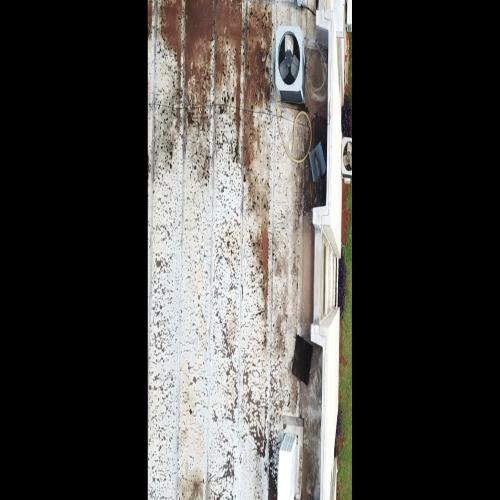conde: (274, 23, 307, 111), (276, 410, 304, 500)
